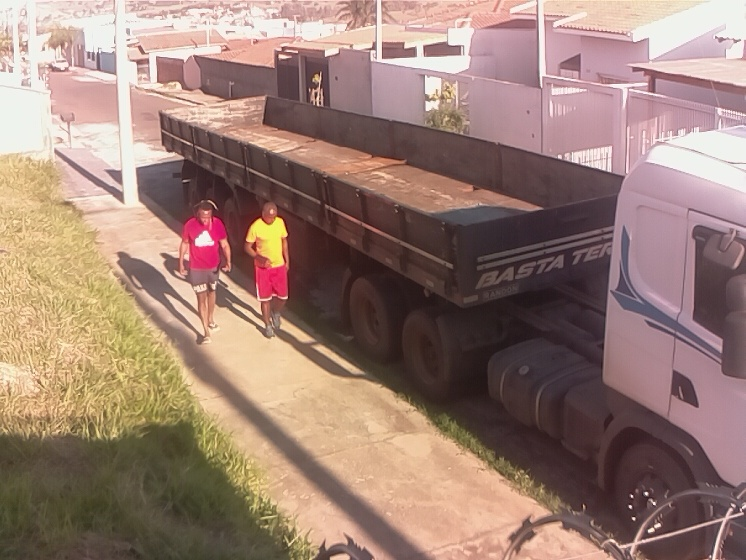person: (176, 201, 236, 346), (241, 199, 300, 342)
